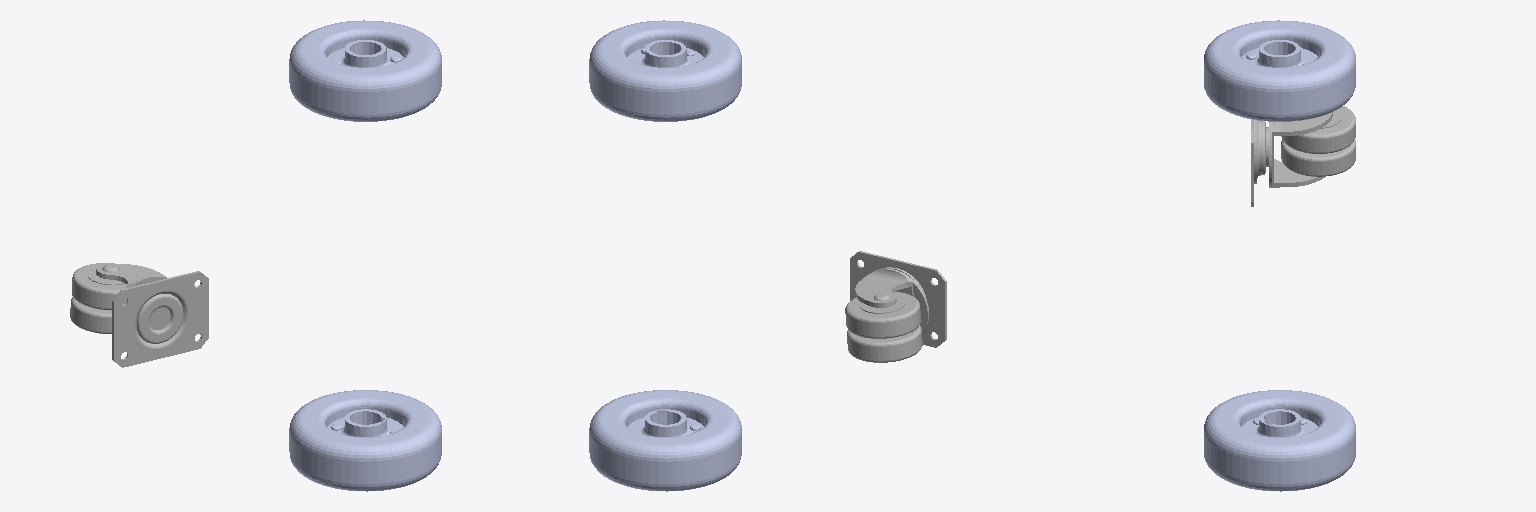
robot.urdf — Robor:
<?xml version="1.0" encoding="utf-8"?>
<!-- This URDF was automatically created by SolidWorks to URDF Exporter! Originally created by [author] ([email redacted]) 
     Commit Version: 1.5.1-0-g916b5db  Build Version: 1.5.7152.31018
     For more information, please see http://wiki.ros.org/sw_urdf_exporter -->
<robot
  name="Robor">

  <link
    name="Chassis">
    <inertial>
      <origin
        xyz="0.034596 -0.5878 0.17916"
        rpy="0 0 0" />
      <mass
        value="10.436" />
      <inertia
        ixx="0.13134"
        ixy="2.3949E-06"
        ixz="-0.00076683"
        iyy="0.24927"
        iyz="9.4271E-09"
        izz="0.13119" />
    </inertial>
    <visual>
      <origin
        xyz="0 0 0"
        rpy="0 0 0" />
      <geometry>
        <mesh
          filename="package://Robor/meshes/Chassis.STL" />
      </geometry>
      <material
        name="">
        <color
          rgba="0.52941 0.54902 0.54902 1" />
      </material>
    </visual>
    <collision>
      <origin
        xyz="0 0 0"
        rpy="0 0 0" />
      <geometry>
        <mesh
          filename="package://Robor/meshes/Chassis.STL" />
      </geometry>
    </collision>
  </link>
  <link
    name="Right Wheel">
    <inertial>
      <origin
        xyz="-5.5511E-17 0.024462 2.237E-05"
        rpy="0 0 0" />
      <mass
        value="0.72827" />
      <inertia
        ixx="0.0013062"
        ixy="2.5001E-20"
        ixz="0"
        iyy="0.0023567"
        iyz="2.039E-07"
        izz="0.0013064" />
    </inertial>
    <visual>
      <origin
        xyz="0 0 0"
        rpy="0 0 0" />
      <geometry>
        <mesh
          filename="package://Robor/meshes/Right Wheel.STL" />
      </geometry>
      <material
        name="">
        <color
          rgba="0.79216 0.81961 0.93333 1" />
      </material>
    </visual>
    <collision>
      <origin
        xyz="0 0 0"
        rpy="0 0 0" />
      <geometry>
        <mesh
          filename="package://Robor/meshes/Right Wheel.STL" />
      </geometry>
    </collision>
  </link>
  <joint
    name="RW"
    type="continuous">
    <origin
      xyz="0.11841 -0.39765 0"
      rpy="-1.5708 0 0.78245" />
    <parent
      link="Chassis" />
    <child
      link="Right Wheel" />
    <axis
      xyz="0 1 0" />
    <limit
      lower="0"
      upper="0"
      effort="0"
      velocity="0" />
    <dynamics
      damping="1"
      friction="0.01" />
  </joint>
  <link
    name="Left Wheel">
    <inertial>
      <origin
        xyz="1.4614E-05 0.025016 -1.6936E-05"
        rpy="0 0 0" />
      <mass
        value="0.72827" />
      <inertia
        ixx="0.0013063"
        ixy="1.3321E-07"
        ixz="-1.3543E-07"
        iyy="0.0023567"
        iyz="-1.5438E-07"
        izz="0.0013063" />
    </inertial>
    <visual>
      <origin
        xyz="0 0 0"
        rpy="0 0 0" />
      <geometry>
        <mesh
          filename="package://Robor/meshes/Left Wheel.STL" />
      </geometry>
      <material
        name="">
        <color
          rgba="0.79216 0.81961 0.93333 1" />
      </material>
    </visual>
    <collision>
      <origin
        xyz="0 0 0"
        rpy="0 0 0" />
      <geometry>
        <mesh
          filename="package://Robor/meshes/Left Wheel.STL" />
      </geometry>
    </collision>
  </link>
  <joint
    name="LW"
    type="continuous">
    <origin
      xyz="0.11841 -0.39765 0.35775"
      rpy="1.5708 0 2.7649" />
    <parent
      link="Chassis" />
    <child
      link="Left Wheel" />
    <axis
      xyz="0 1 0" />
    <limit
      lower="0"
      upper="0"
      effort="0"
      velocity="0" />
    <dynamics
      damping="1"
      friction="0.01" />
  </joint>
  <link
    name="Castor Wheel">
    <inertial>
      <origin
        xyz="0.02265 -0.021758 0.015149"
        rpy="0 0 0" />
      <mass
        value="0.30661" />
      <inertia
        ixx="0.00015455"
        ixy="-2.2384E-06"
        ixz="-4.0131E-06"
        iyy="0.00020104"
        iyz="-1.4704E-07"
        izz="0.00018009" />
    </inertial>
    <visual>
      <origin
        xyz="0 0 0"
        rpy="0 0 0" />
      <geometry>
        <mesh
          filename="package://Robor/meshes/Castor Wheel.STL" />
      </geometry>
      <material
        name="">
        <color
          rgba="0.75294 0.75294 0.75294 1" />
      </material>
    </visual>
    <collision>
      <origin
        xyz="0 0 0"
        rpy="0 0 0" />
      <geometry>
        <mesh
          filename="package://Robor/meshes/Castor Wheel.STL" />
      </geometry>
    </collision>
  </link>
  <joint
    name="CW"
    type="fixed">
    <origin
      xyz="-0.16947 -0.36094 0.20391"
      rpy="1.5708 0.10274 0" />
    <parent
      link="Chassis" />
    <child
      link="Castor Wheel" />
    <axis
      xyz="0 0 0" />
    <dynamics
      damping="1"
      friction="0.01" />
  </joint>
  
  <gazebo>
    <plugin name="differential_drive_controller" filename="libdiffdrive_plugin.so">
     <rosDebugLevel>Debug</rosDebugLevel>
     <publishWheelTF>false</publishWheelTF>
     <robotNamespace>/</robotNamespace>
		<publishTf>1</publishTf>
		<publishWheelJointState>false</publishWheelJointState>
		<alwaysOn>true</alwaysOn>
		<updateRate>100.0</updateRate>
		<leftJoint>LW</leftJoint>
		<rightJoint>RW</rightJoint>
		<wheelSeparation>0.407</wheelSeparation>
		<wheelDiameter>0.153</wheelDiameter>
		<broadcastTF>1</broadcastTF>
		<wheelTorque>30</wheelTorque>
		<wheelAcceleration>0.0</wheelAcceleration>
		<commandTopic>cmd_vel</commandTopic>
		<odometryFrame>odom</odometryFrame>
		<odometryTopic>odom</odometryTopic>
		<robotBaseFrame>Chassis</robotBaseFrame>
    </plugin>
  </gazebo>
</robot>

--- Facts derived from the render (not from the file) ---
3 views of the same robot in one strip: view 1: azimuth 30°, elevation 25°; view 2: azimuth 150°, elevation 25°; view 3: azimuth 270°, elevation 25° (orthographic).
Model Robor with 4 links and 3 joints (2 continuous, 1 fixed), rooted at Chassis, posed every joint at zero.
Links seen in each view (by area): view 1: Right Wheel, Left Wheel, Castor Wheel; view 2: Left Wheel, Right Wheel, Castor Wheel; view 3: Left Wheel, Right Wheel, Castor Wheel.
Boxes of the visible links, left/top/right/bottom form: Right Wheel: left=289, top=390, right=441, bottom=491; Left Wheel: left=289, top=20, right=441, bottom=121; Castor Wheel: left=70, top=263, right=208, bottom=367; Left Wheel: left=589, top=20, right=741, bottom=121; Right Wheel: left=589, top=390, right=741, bottom=491; Castor Wheel: left=845, top=251, right=946, bottom=362; Left Wheel: left=1204, top=20, right=1355, bottom=121; Right Wheel: left=1204, top=390, right=1355, bottom=491; Castor Wheel: left=1251, top=106, right=1355, bottom=206.
Bounding box of the posed robot: 0.389 × 0.1524 × 0.4572 m (x, y, z).
Meshes: 4 distinct files referenced, 3 mesh visuals loaded (3 binary STL); not drawn: 1 (reference not matched to a file when rendering).